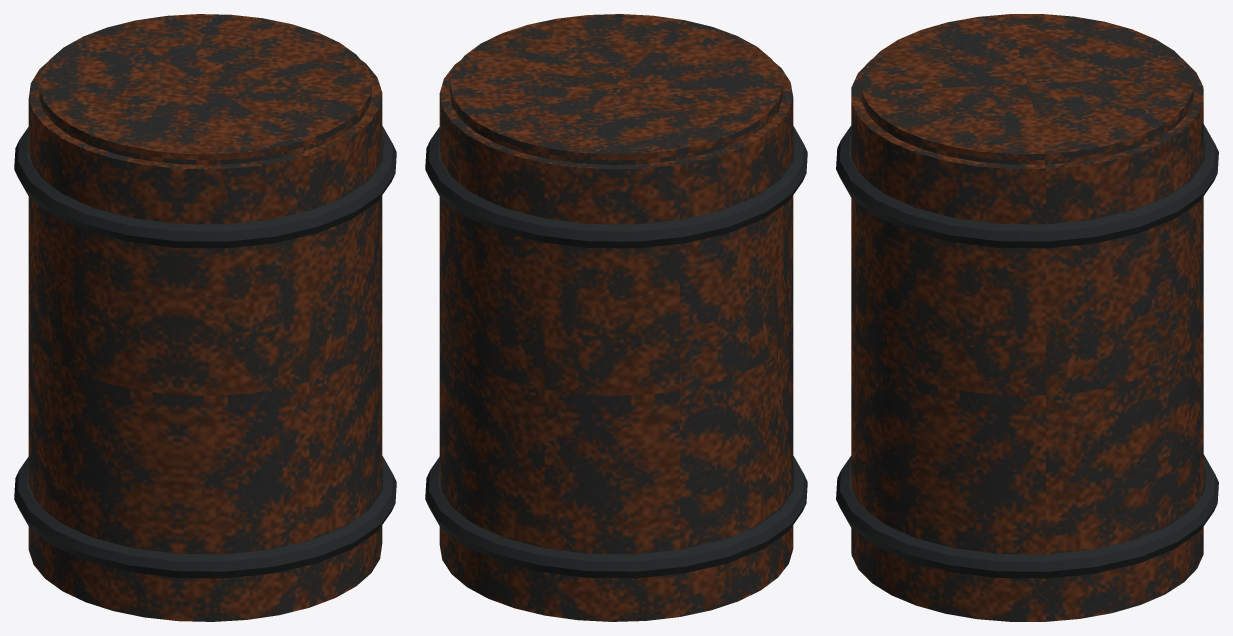
File: SM_Barrel_cf570e2e32.fbx
3 renders of one model, left to right at view 1: azimuth 30°, elevation 25°; view 2: azimuth 150°, elevation 25°; view 3: azimuth 270°, elevation 25°, orthographic.
Parts seen in each view (by area): view 1: SM_Barrel_cf570e2e32; view 2: SM_Barrel_cf570e2e32; view 3: SM_Barrel_cf570e2e32.
Boxes of the visible parts, x1=… form: SM_Barrel_cf570e2e32: x1=14, y1=14, x2=396, y2=621; SM_Barrel_cf570e2e32: x1=425, y1=14, x2=807, y2=621; SM_Barrel_cf570e2e32: x1=836, y1=14, x2=1218, y2=621.
Size of what is drawn, in the model's own units: 73.59 by 73.59 by 98.25.
Materials: 2 (1 with a texture image).
